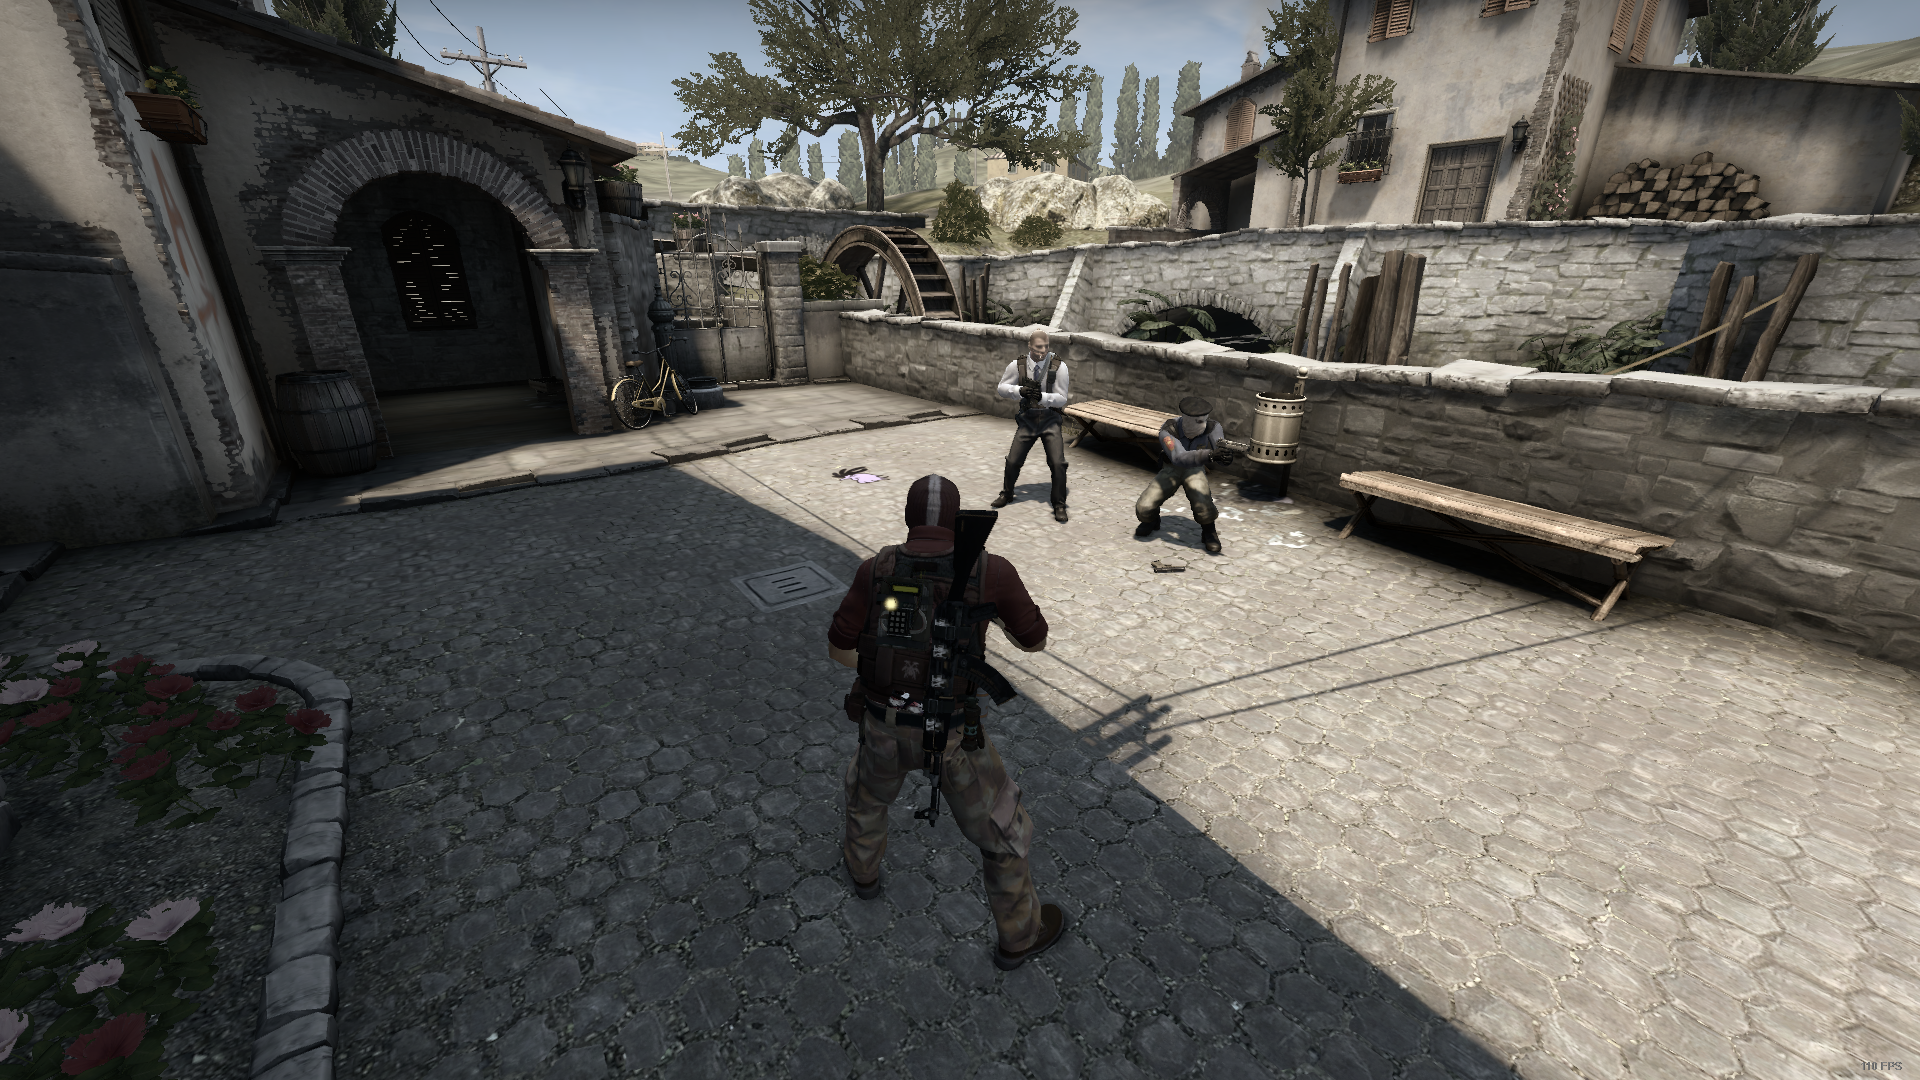t: (1127, 396, 1247, 559)
